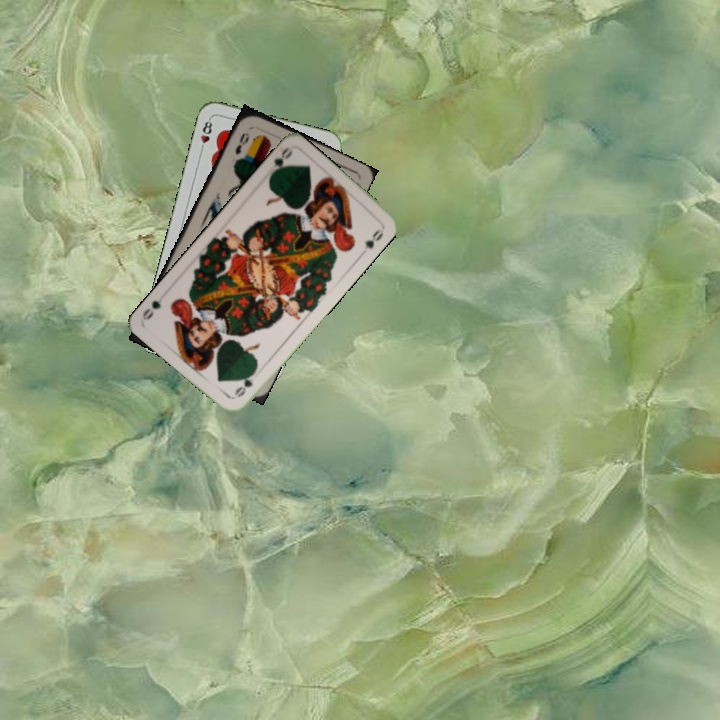EO: (231, 128, 252, 157)
GO: (266, 143, 295, 182), (230, 365, 259, 401)
H8: (196, 114, 215, 154)
